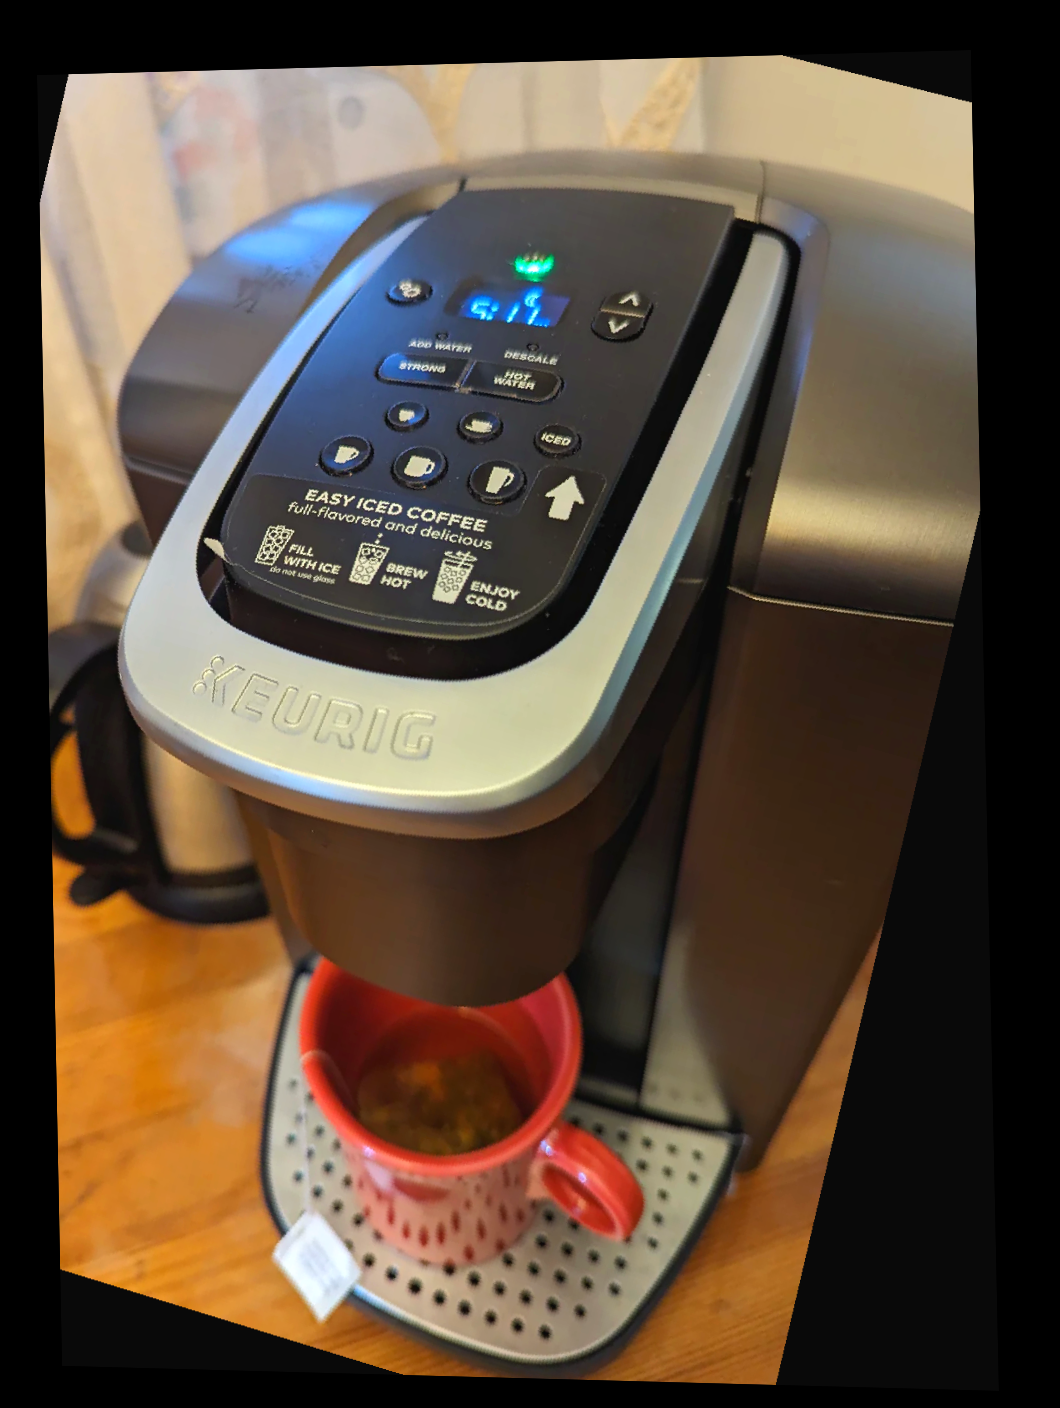10oz: (384, 443, 450, 495)
12oz: (464, 455, 529, 509)
4oz: (373, 391, 460, 431)
6oz: (446, 400, 512, 453)
8oz: (312, 431, 377, 483)
add_water: (397, 317, 484, 357)
descale: (487, 332, 573, 373)
hot: (468, 365, 554, 406)
iced: (524, 412, 590, 465)
power: (497, 236, 568, 286)
strong: (379, 351, 465, 392)
